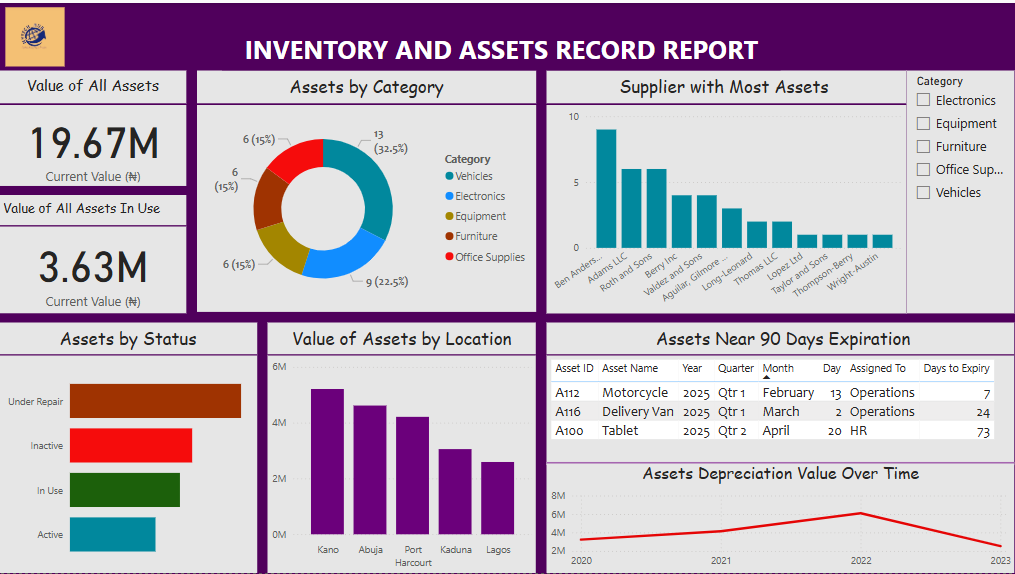

This screenshot's page, from the dashboard's own definition file:
{"tool":"powerbi","page":{"name":"Page 1","canvas":[1280,720],"ordinal":0},"visuals":[{"type":"card","title":"Total Value of All Assets In Use","fields":{"Values":["Sum(Inventory and Assets Records.Current Value (₦))"]},"box":[0,128.5,236.2,102],"z":0},{"type":"donutChart","title":"Assets by Category","fields":{"Category":["Inventory and Assets Records.Category"],"Y":["CountNonNull(Inventory and Assets Records.Asset ID)"]},"box":[249.5,128.5,427.1,260.8],"z":1000},{"type":"barChart","fields":{"Category":["Inventory and Assets Records.Status"],"Y":["CountNonNull(Inventory and Assets Records.Asset ID)"]},"box":[0,444.1,325,275.9],"z":2000},{"type":"tableEx","fields":{"Values":["Inventory and Assets Records.Asset ID","Inventory and Assets Records.Asset Name","Inventory and Assets Records.Warranty Expiry Date.Variation.Date Hierarchy.Year","Inventory and Assets Records.Warranty Expiry Date.Variation.Date Hierarchy.Quarter","Inventory and Assets Records.Warranty Expiry Date.Variation.Date Hierarchy.Month","Inventory and Assets Records.Warranty Expiry Date.Variation.Date Hierarchy.Day","Inventory and Assets Records.Assigned To","Sum(Inventory and Assets Records.Date to Expire)"]},"box":[689.8,444.1,589.6,138],"z":3000},{"type":"textbox","box":[0,402.5,325,39.7],"z":4000},{"type":"textbox","box":[0,85,236.2,41.6],"z":5000},{"type":"textbox","box":[689.8,85,453.5,41.6],"z":6000},{"type":"columnChart","fields":{"Category":["Inventory and Assets Records.Supplier"],"Y":["CountNonNull(Inventory and Assets Records.Asset ID)"]},"box":[689.8,128.5,453.5,262.7],"z":7000},{"type":"textbox","box":[689.8,402.5,589.6,39.7],"z":8000},{"type":"textbox","box":[249.5,85,427.1,41.6],"z":9000},{"type":"card","title":"Total Value of All Assets In Use","fields":{"Values":["Sum(Inventory and Assets Records.Current Value (₦))"]},"box":[0,281.6,236.2,109.6],"z":10000},{"type":"textbox","box":[0,241.9,236.2,37.8],"z":11000},{"type":"textbox","box":[281.6,30.2,703,54.8],"z":12000},{"type":"columnChart","title":"Assets by Category","fields":{"Category":["Inventory and Assets Records.Location"],"Y":["Sum(Inventory and Assets Records.Current Value (₦))"]},"box":[338.3,444.1,338.3,275.9],"z":13000},{"type":"textbox","box":[338.3,402.5,338.3,39.7],"z":14000},{"type":"slicer","fields":{"Values":["Inventory and Assets Records.Category"]},"box":[1143.3,85,136.1,306.1],"z":15000},{"type":"lineChart","title":"Assets Depreciation Value  Over Time","fields":{"Category":["Inventory and Assets Records.Year Purchased"],"Y":["Sum(Inventory and Assets Records.Depreciation Value)"]},"box":[689.8,578.3,589.6,141.7],"z":16000},{"type":"shape","box":[689.8,570.7,589.6,17],"z":17000},{"type":"image","box":[0,0,90.7,85],"z":18000}]}

Visuals, with their boxes in screenshot pixels (x1, y1, x2, y2), scaled from the page's 1280x720 canvas onto the 1015x574 screenshot:
"Total Value of All Assets In Use" card: box=[0, 102, 187, 184]
"Assets by Category" donutChart: box=[198, 102, 537, 310]
barChart - Inventory and Assets Records.Status x CountNonNull(Inventory and Assets Records.Asset ID): box=[0, 354, 258, 573]
tableEx - Inventory and Assets Records.Asset ID x Inventory and Assets Records.Asset Name: box=[547, 354, 1014, 464]
textbox: box=[0, 321, 258, 353]
textbox: box=[0, 68, 187, 101]
textbox: box=[547, 68, 907, 101]
columnChart - Inventory and Assets Records.Supplier x CountNonNull(Inventory and Assets Records.Asset ID): box=[547, 102, 907, 312]
textbox: box=[547, 321, 1014, 353]
textbox: box=[198, 68, 537, 101]
"Total Value of All Assets In Use" card: box=[0, 224, 187, 312]
textbox: box=[0, 193, 187, 223]
textbox: box=[223, 24, 781, 68]
"Assets by Category" columnChart: box=[268, 354, 537, 573]
textbox: box=[268, 321, 537, 353]
slicer - Inventory and Assets Records.Category: box=[907, 68, 1014, 312]
"Assets Depreciation Value  Over Time" lineChart: box=[547, 461, 1014, 573]
shape: box=[547, 455, 1014, 469]
image: box=[0, 0, 72, 68]
